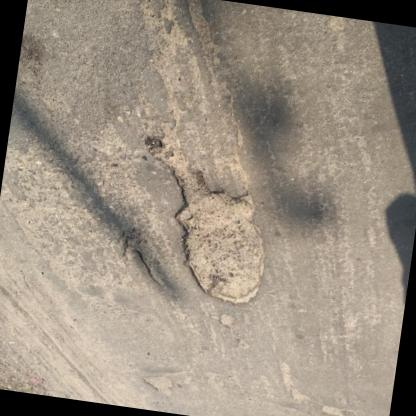pothole: (124, 138, 283, 310), (114, 228, 174, 289), (270, 358, 316, 405), (139, 371, 177, 398), (318, 404, 356, 416), (215, 312, 236, 329)
